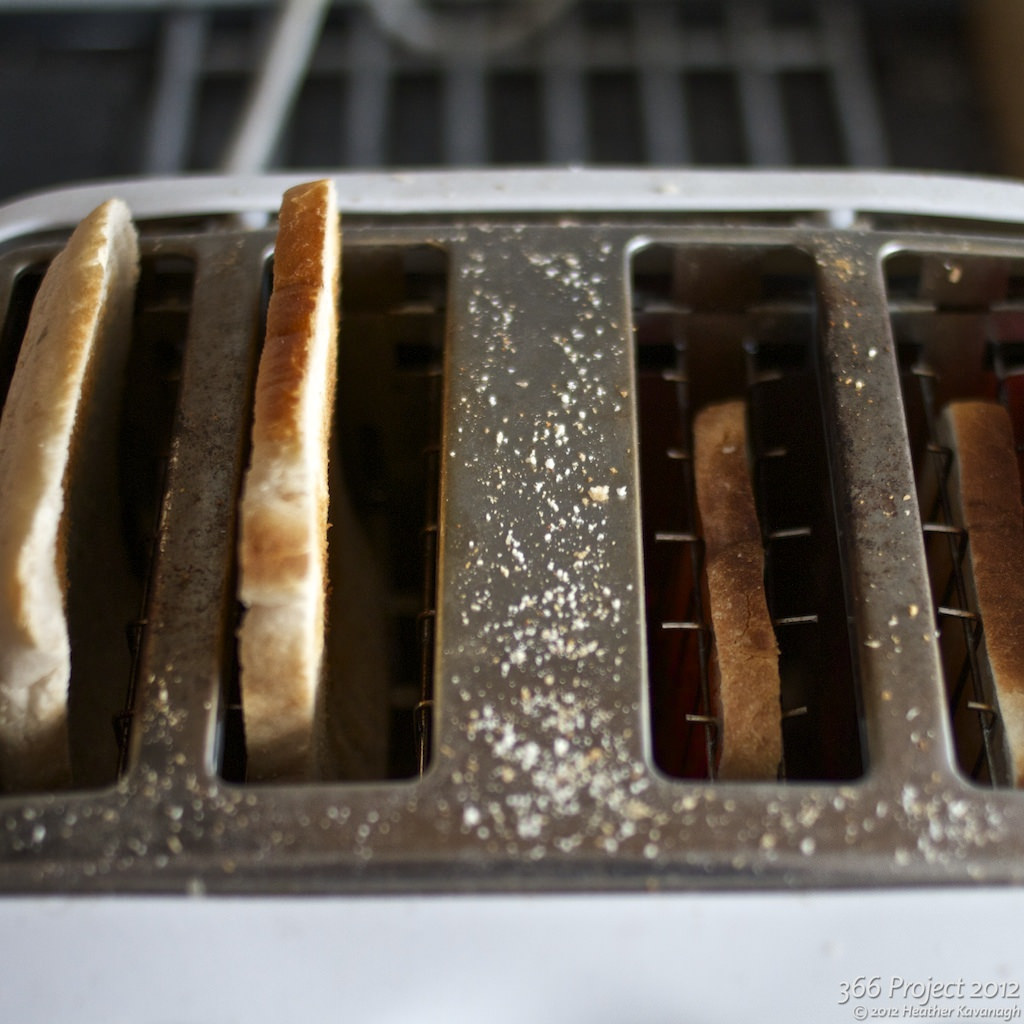slice of bread: (7, 199, 124, 776), (240, 184, 340, 774), (700, 406, 784, 777), (953, 400, 1024, 780)
